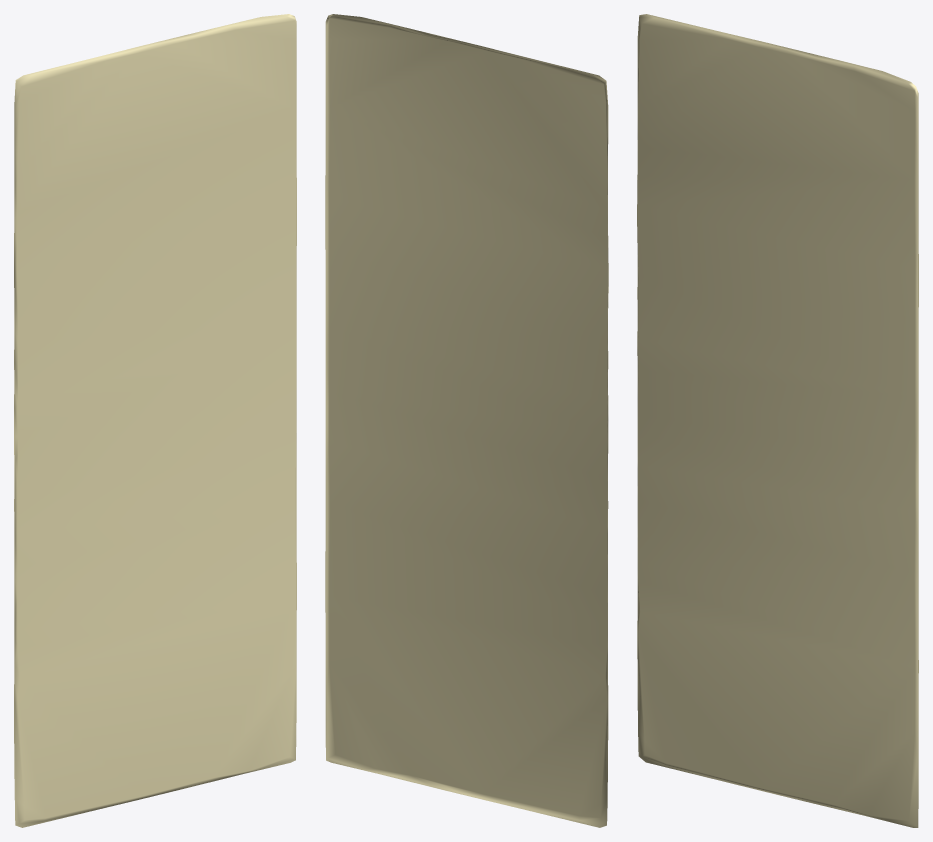
The picture shows the model from 3 angles, left to right: view 1: azimuth 30°, elevation 25°; view 2: azimuth 150°, elevation 25°; view 3: azimuth 330°, elevation 25°; orthographic projection.
Parts seen in each view (by area): view 1: Cube; view 2: Cube; view 3: Cube.
Boxes of the visible parts, left/top/right/bottom form: Cube: left=14, top=14, right=296, bottom=827; Cube: left=325, top=14, right=608, bottom=827; Cube: left=637, top=14, right=918, bottom=827.
Bounding box in the file's own units: 0.7834 × 1.99 × 0.00898.
